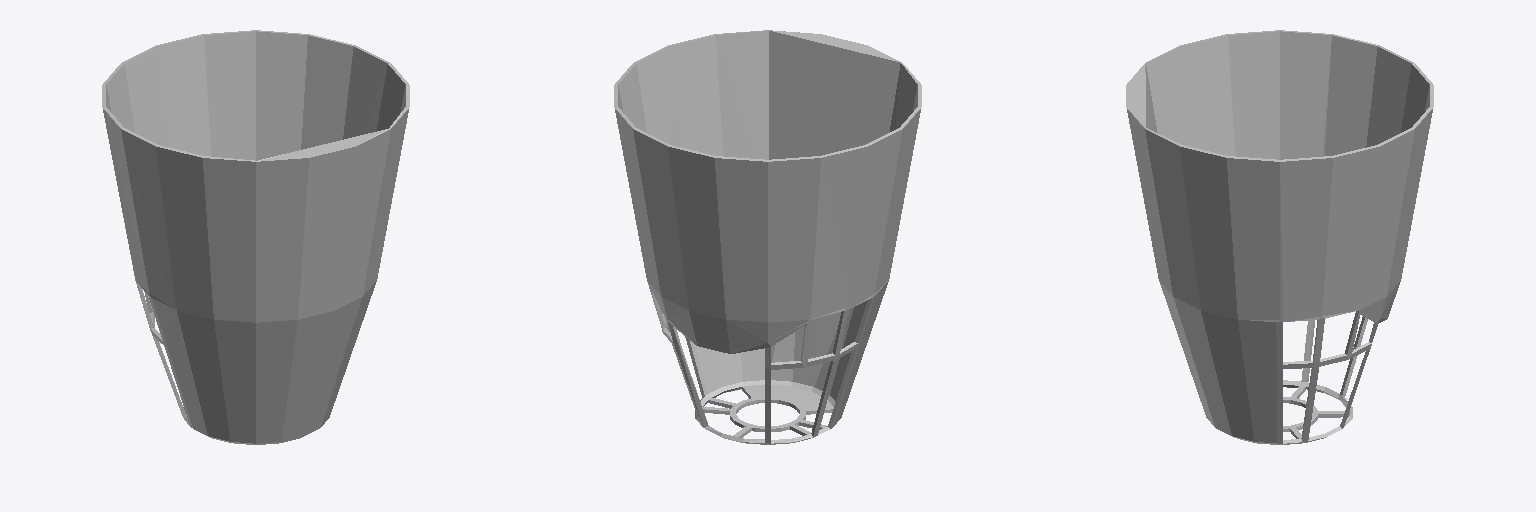
File: Kabina3.obj
3 renders of one model, left to right at view 1: azimuth 30°, elevation 25°; view 2: azimuth 150°, elevation 25°; view 3: azimuth 270°, elevation 25°, orthographic.
Parts seen in each view (by area): view 1: Cylinder002; view 2: Cylinder002; view 3: Cylinder002.
Part boxes in pixels (left/top/right/bottom): Cylinder002: left=102, top=30, right=409, bottom=444; Cylinder002: left=614, top=30, right=921, bottom=444; Cylinder002: left=1126, top=30, right=1433, bottom=444.
Size of the model in its own units: 19.61 by 22.26 by 19.31.